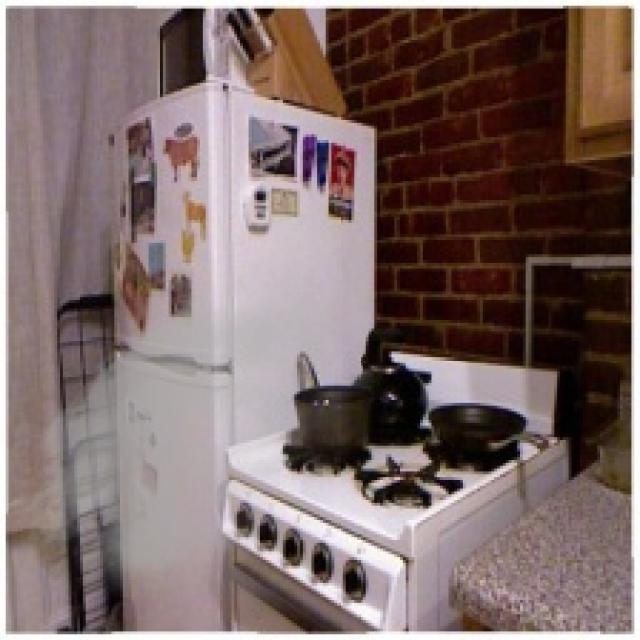Smoke: (11, 255, 383, 614)
